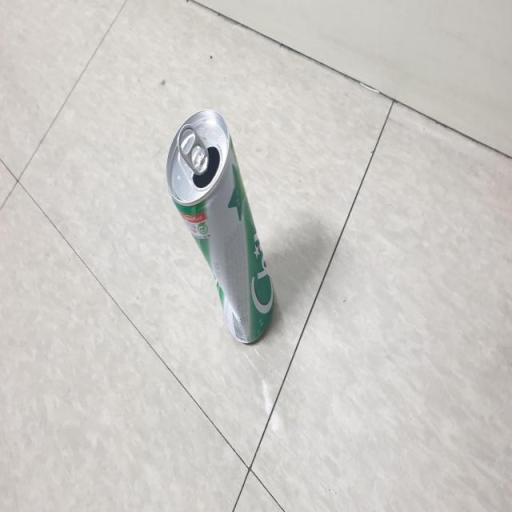metal: (157, 95, 289, 358)
